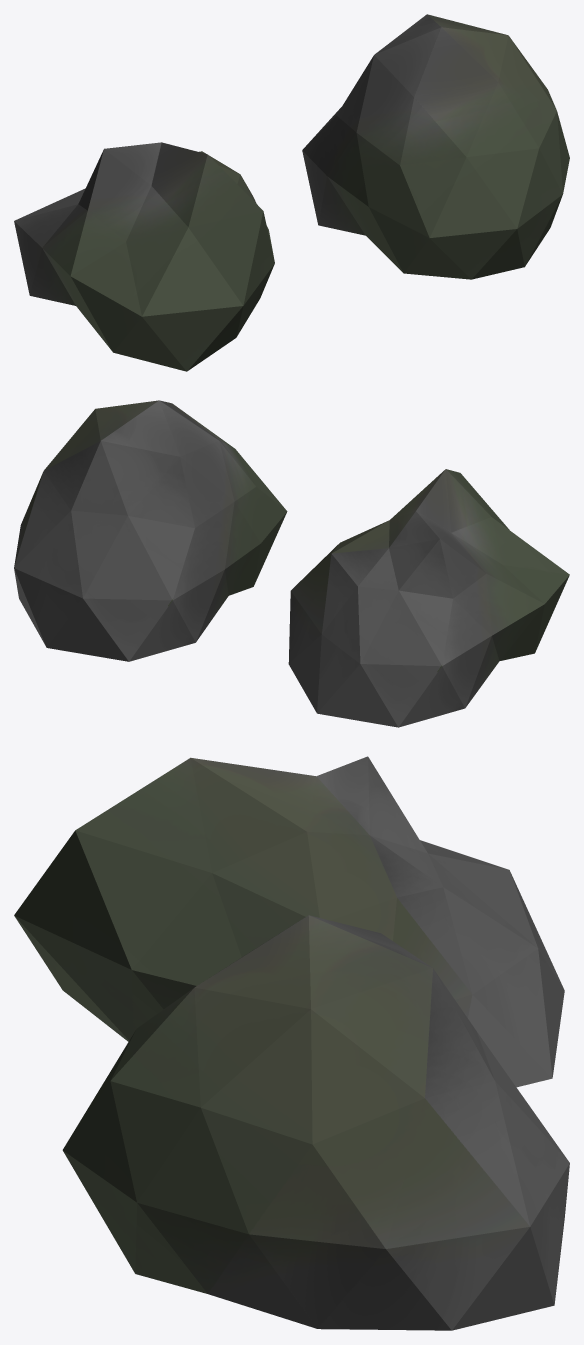
Rendered from Rocks.glb.
3 views of the same model, one above another, from view 1: azimuth 30°, elevation 25°; view 2: azimuth 150°, elevation 25°; view 3: azimuth 270°, elevation 25° (orthographic). The views are drawn at different scales.
Visible parts, largest first — view 1: Rock 2, Rock 1; view 2: Rock 2, Rock 1; view 3: Rock 2, Rock 1.
Boxes of the visible parts, <box> form: Rock 2: <box>302,14,569,279</box>; Rock 1: <box>14,142,274,371</box>; Rock 2: <box>14,400,287,661</box>; Rock 1: <box>288,469,569,727</box>; Rock 2: <box>62,915,569,1330</box>; Rock 1: <box>14,756,564,1087</box>.
Bounding box in the file's own units: 4.41 × 1.8 × 2.55.
1 material, 1 textured.
